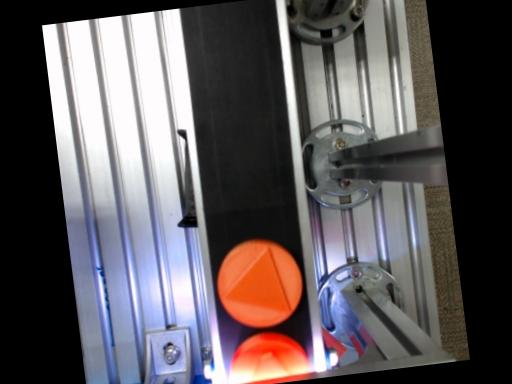Orange_Waper: (217, 238, 302, 326), (229, 331, 311, 383)
